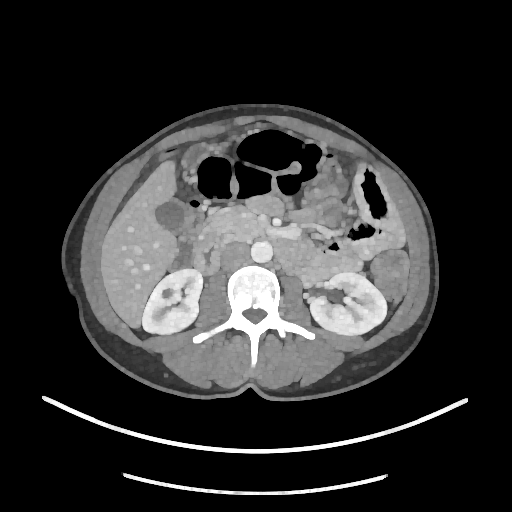Lesion: (157, 285, 177, 302)
